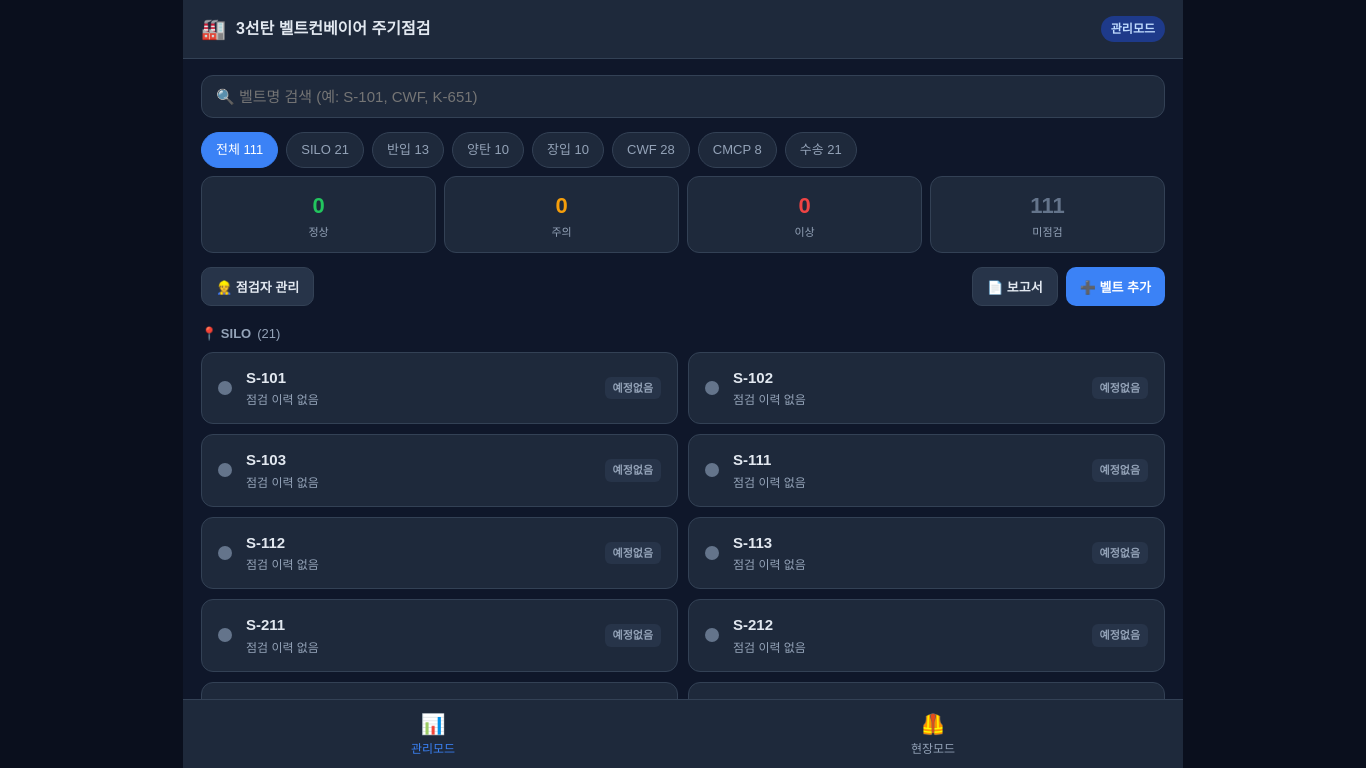
App 통합 렌더 › 현장모드 탭으로 전환하면 캘린더가 보인다
Click the button "🦺 현장모드": (933, 734) [683,700,1183,767]
(page scrolled)
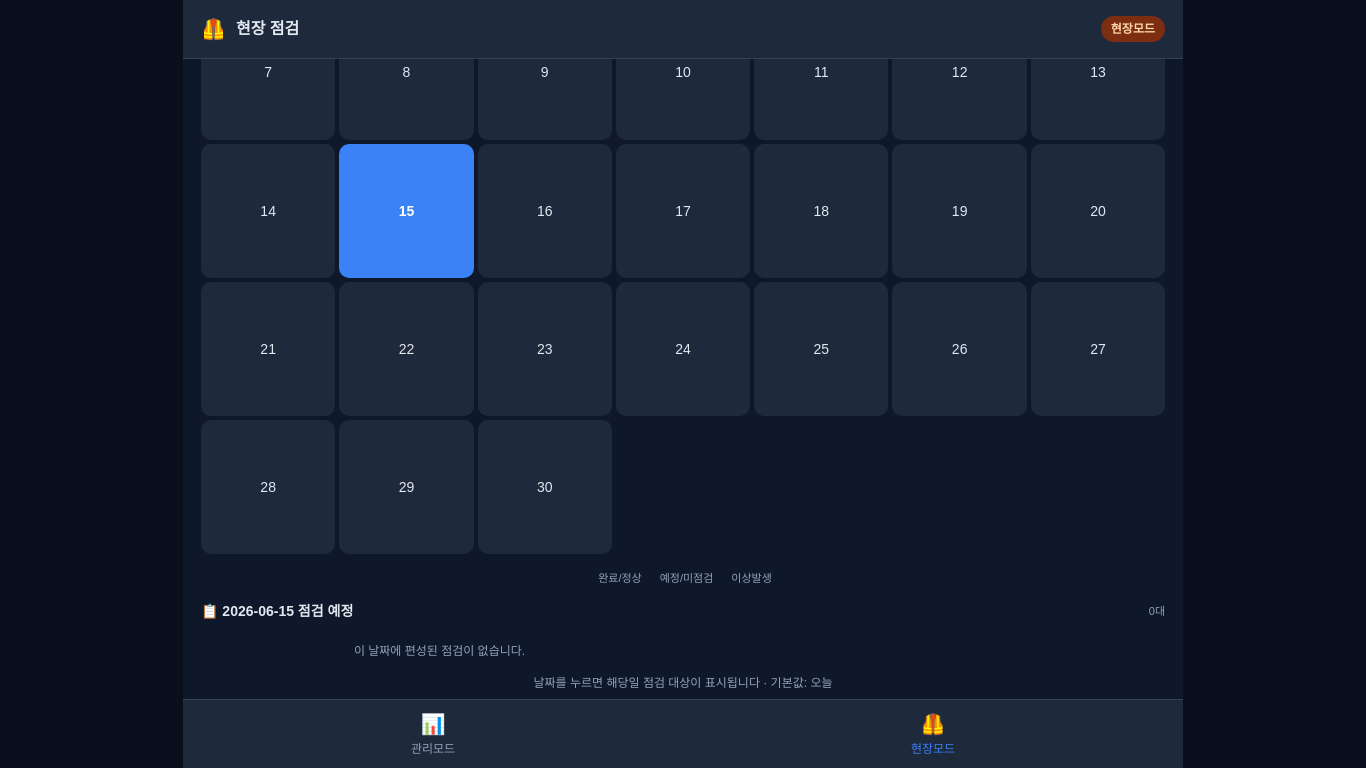
Now the heading "현장 점검" is shown, box [236,17,299,41]
Now the text "📋 2026-06-15 점검 예정 0대" is shown, box [201,601,1165,622]
